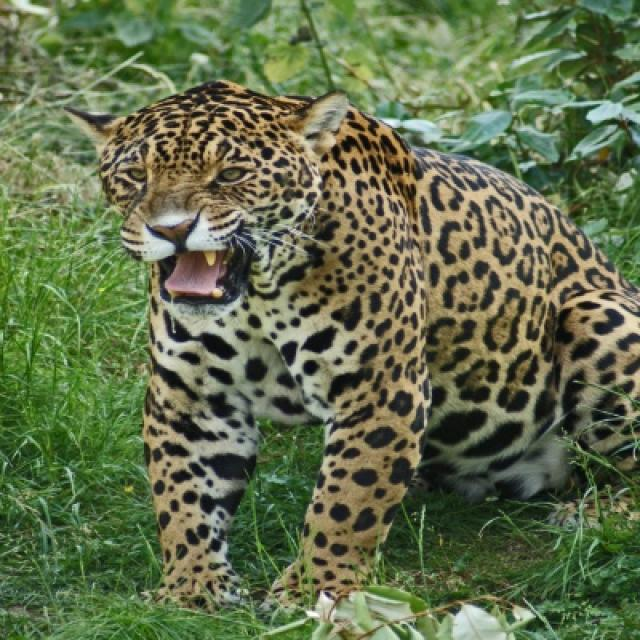Jaguar: (69, 80, 638, 632)
